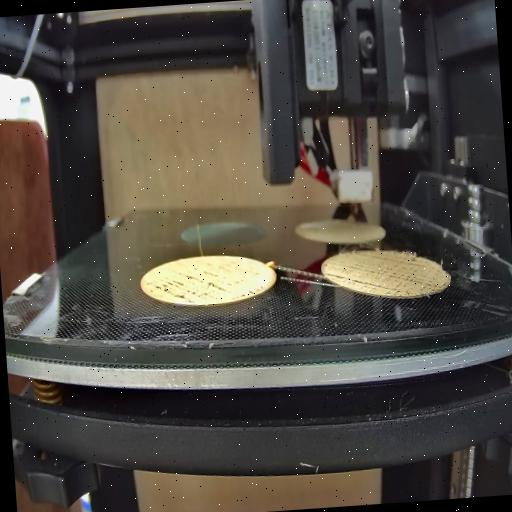under_extrusion: (147, 267, 265, 307), (326, 254, 440, 295)
